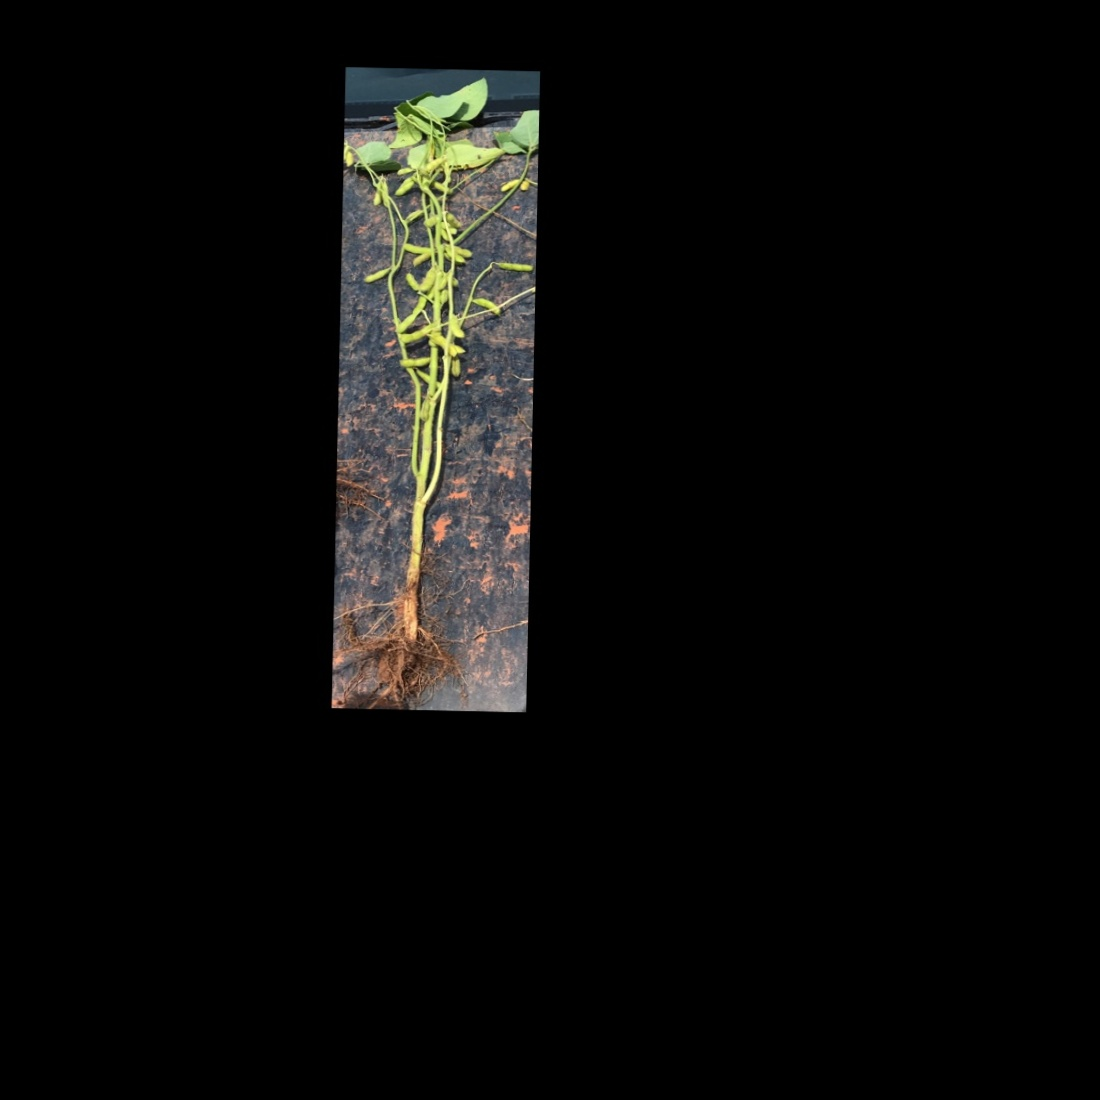pod: (469, 295, 504, 315), (361, 264, 390, 285), (493, 260, 534, 273), (410, 290, 429, 318), (396, 355, 434, 368), (393, 177, 419, 196), (402, 242, 435, 256), (403, 272, 422, 294), (496, 177, 518, 192)
soy: (333, 68, 536, 692)
